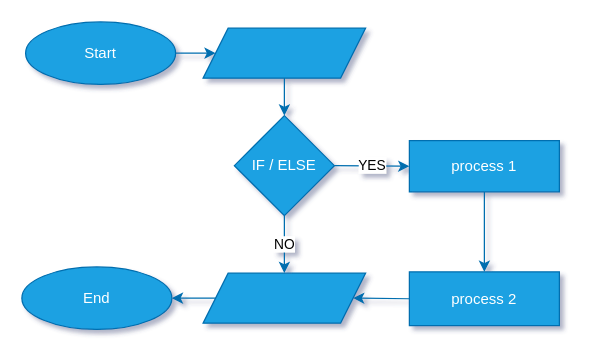
Image size: 589x359. Some labels were removed from this diagram. The centre of each missing label's shape, as x and y in pixels:
Input: the point at 284,52
Output: the point at 284,297
